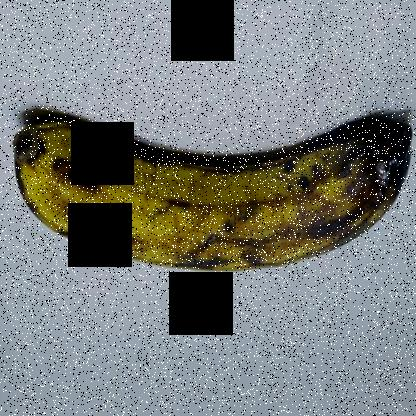overripe: (5, 90, 415, 283)
